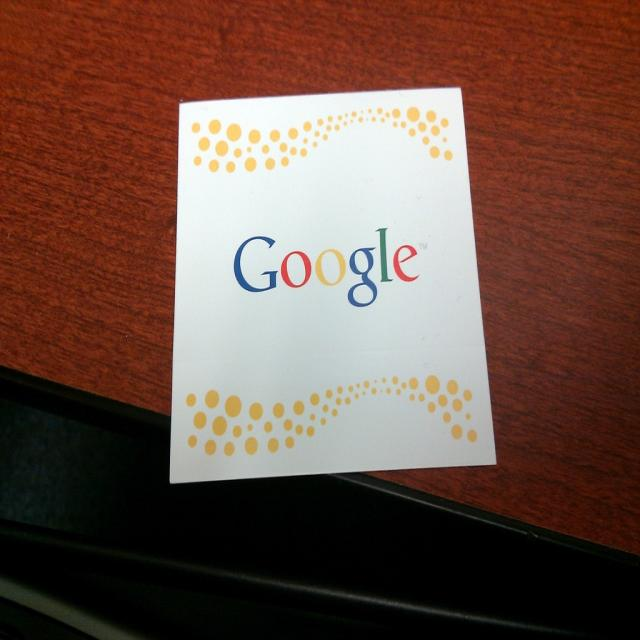google: (231, 220, 427, 317)
